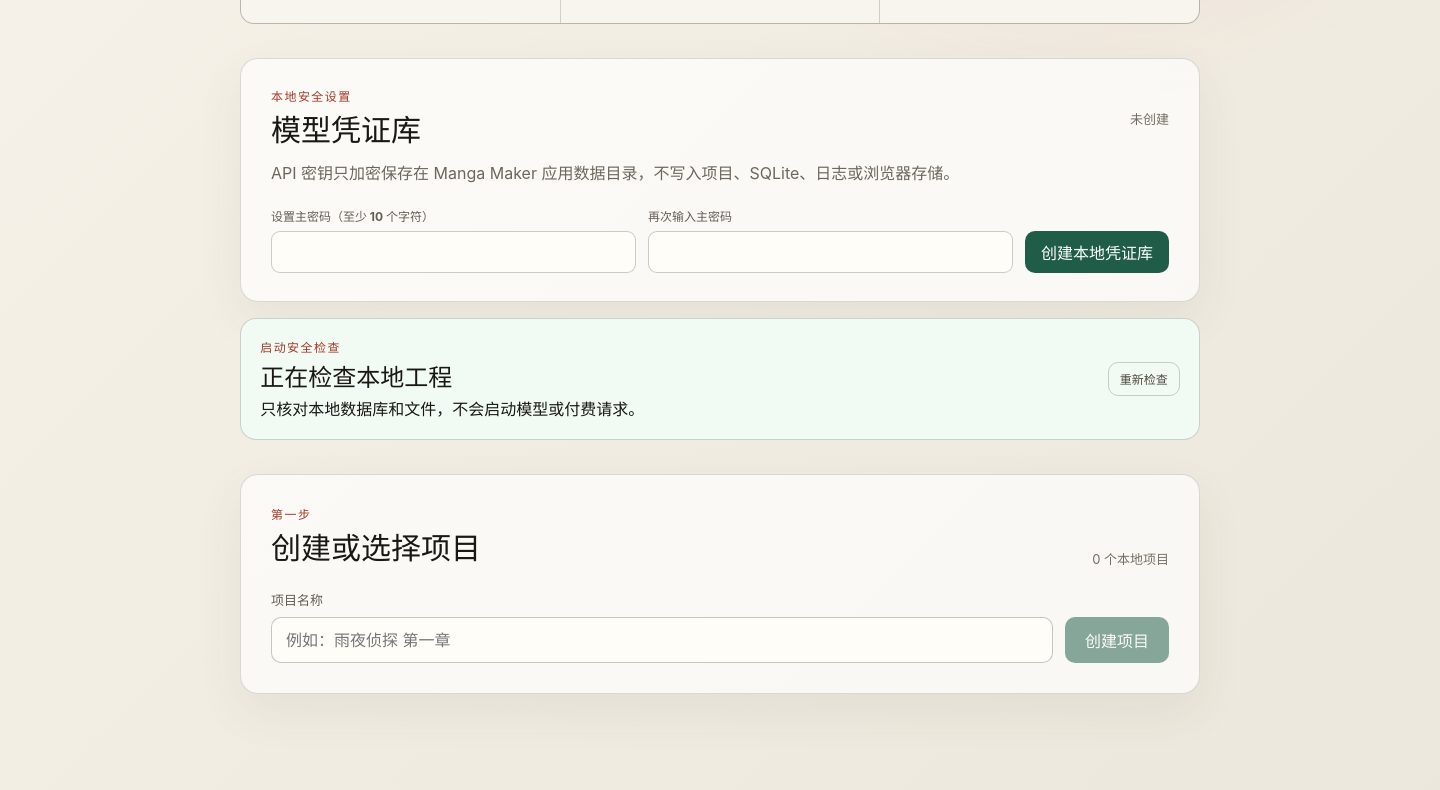
Test case: App › consumes the launch fragment and creates a local project with protected headers
(page scrolled)
Expected: the heading "创建或选择项目" is shown, [271,524,481,568]
Type "雨夜侦探" into the field labelled "项目名称". click: (662, 640)
box: [271,617,1053,663]
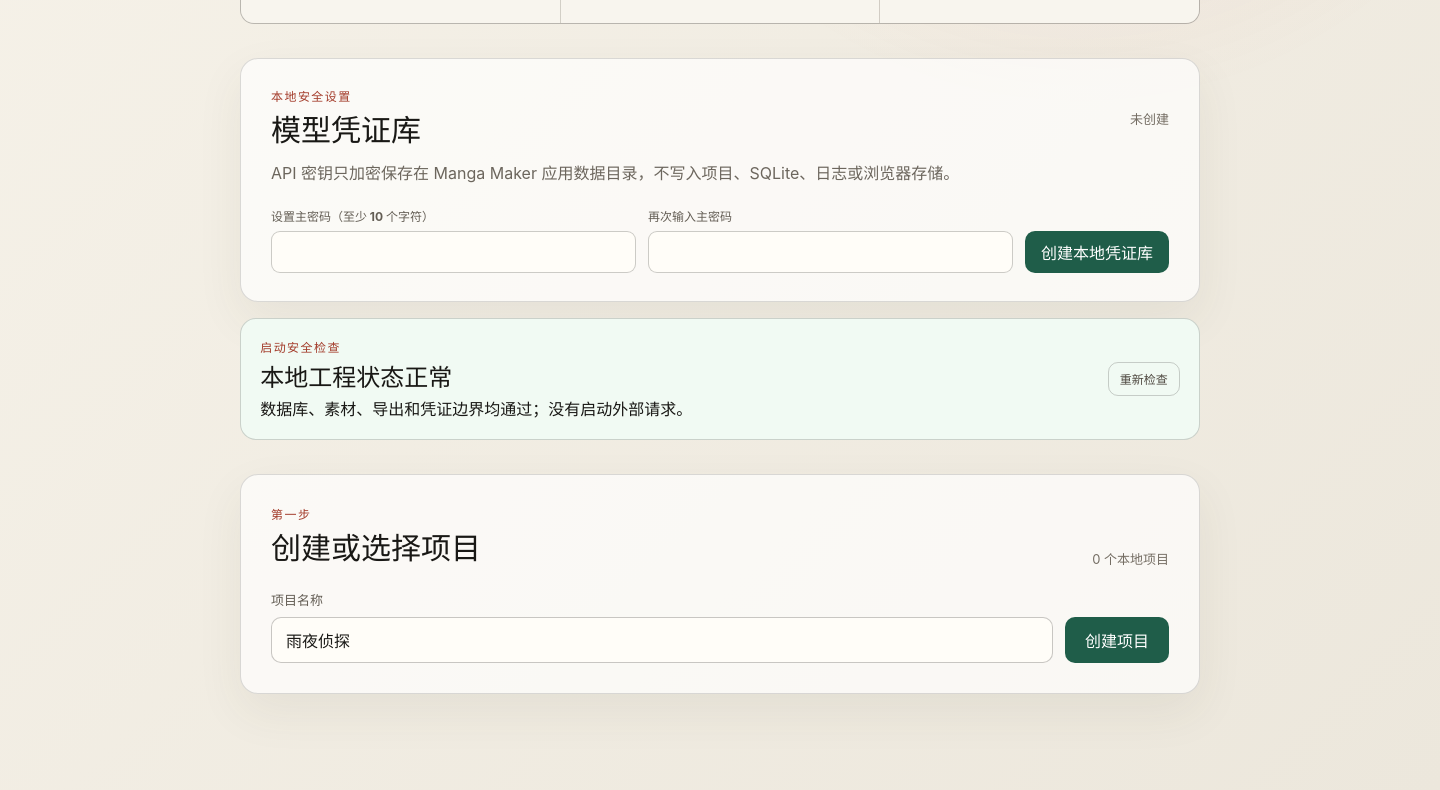
Click the button "创建项目". click: (1117, 640)
box: [1065,617,1169,663]
(page scrolled)
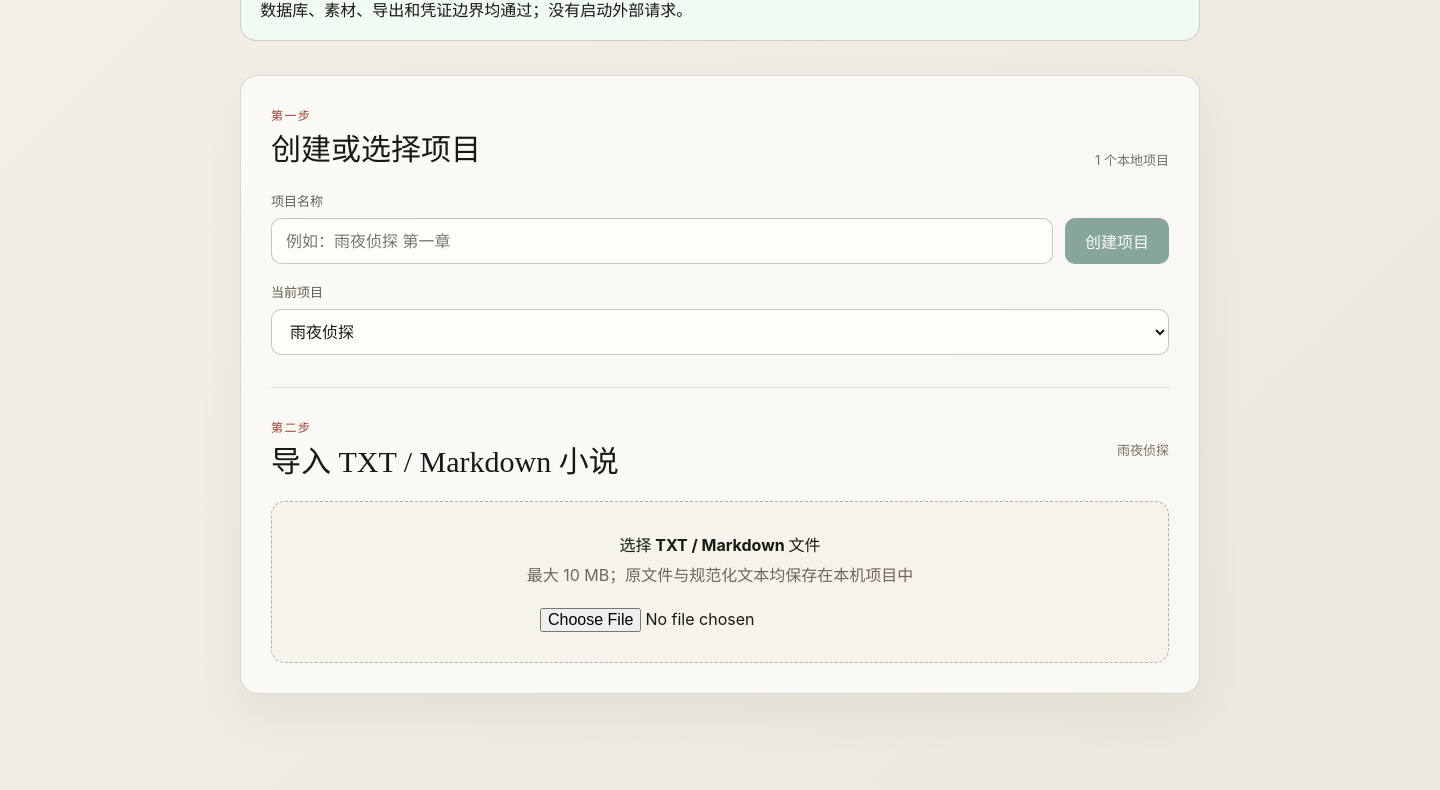
Now the heading "导入 TXT / Markdown 小说" is shown, box [271,437,619,481]
